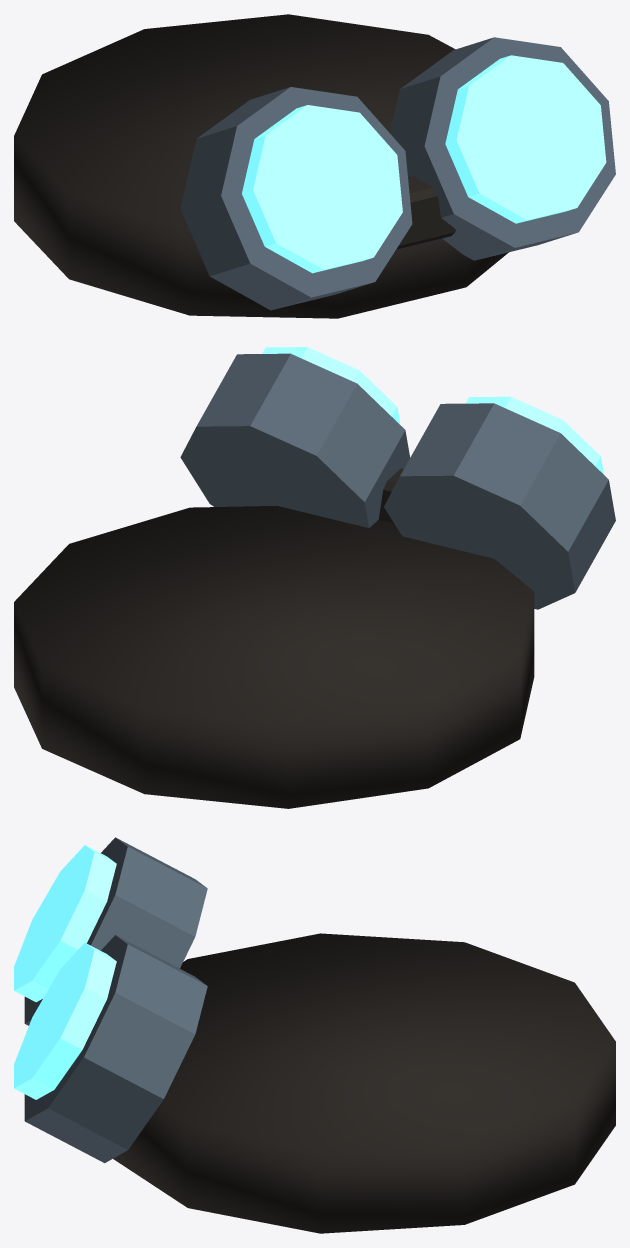
Rendered from npc_goggles_blue.glb.
The picture shows the model from 3 angles, top to bottom: view 1: azimuth 30°, elevation 25°; view 2: azimuth 150°, elevation 25°; view 3: azimuth 270°, elevation 25°; orthographic projection.
Parts seen in each view (by area): view 1: part.npc_goggles_blue; view 2: part.npc_goggles_blue; view 3: part.npc_goggles_blue.
Boxes of the visible parts, x1,y1,x2,y2 form: part.npc_goggles_blue: [14, 14, 615, 318]; part.npc_goggles_blue: [14, 347, 615, 808]; part.npc_goggles_blue: [14, 837, 615, 1233].
Size of the model in its own units: 0.2217 by 0.1098 by 0.2606.
